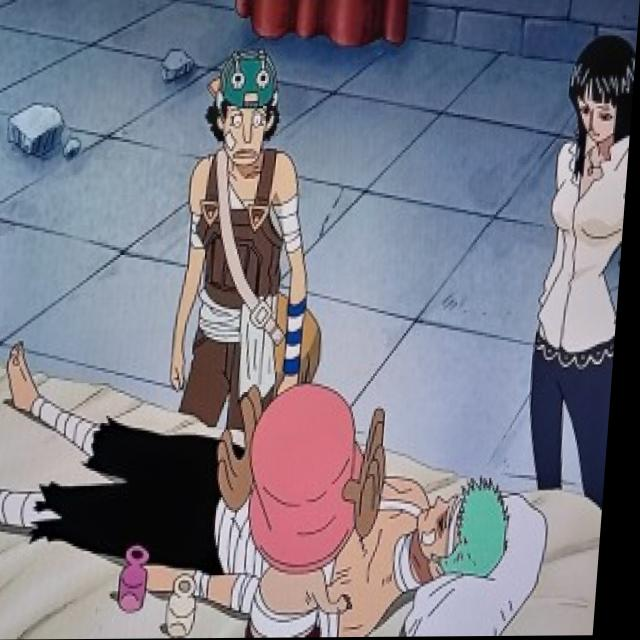Chyopa: (205, 373, 413, 638)
NicoRobin: (548, 38, 638, 187)
Usopp: (202, 42, 296, 178)
Zoro: (415, 452, 522, 600)
